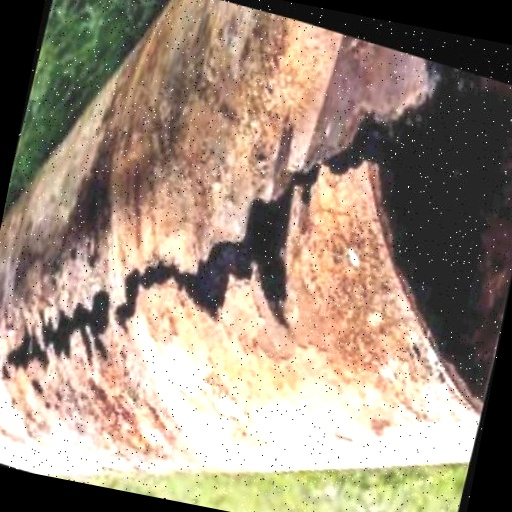corrosion: (295, 231, 421, 418), (0, 295, 158, 397), (72, 379, 192, 482)
crack: (334, 20, 398, 279)
